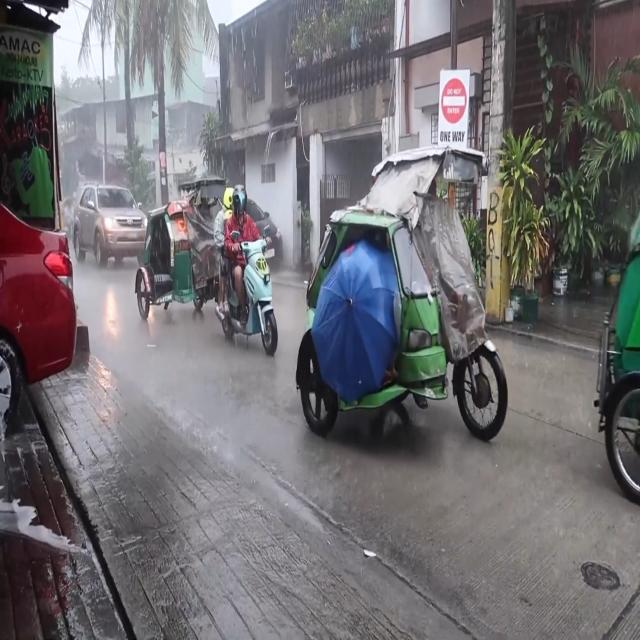half: (230, 183, 249, 223), (222, 180, 236, 214)
